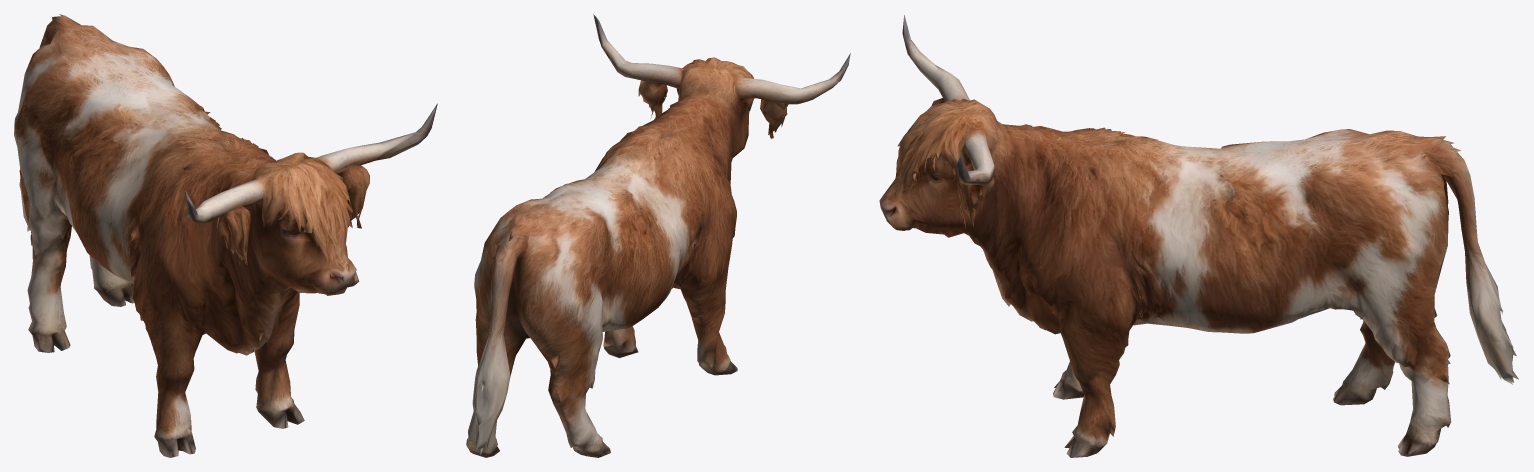
The model's file is animal_cow.glb.
3 views of the same model, side by side, from view 1: azimuth 30°, elevation 25°; view 2: azimuth 150°, elevation 25°; view 3: azimuth 270°, elevation 25° (orthographic). The views are drawn at different scales.
Parts seen in each view (by area): view 1: tripo_node_836bb4b6-7842-4ef6-a3c3-10dcf92b4c50; view 2: tripo_node_836bb4b6-7842-4ef6-a3c3-10dcf92b4c50; view 3: tripo_node_836bb4b6-7842-4ef6-a3c3-10dcf92b4c50.
Part boxes in pixels (x1,y1,x2,y2): tripo_node_836bb4b6-7842-4ef6-a3c3-10dcf92b4c50: (14,14,437,457); tripo_node_836bb4b6-7842-4ef6-a3c3-10dcf92b4c50: (466,14,850,457); tripo_node_836bb4b6-7842-4ef6-a3c3-10dcf92b4c50: (879,15,1518,457).
Size of the model in its own units: 0.5008 by 0.5831 by 0.9785.
Materials: 1 (1 with a texture image).
